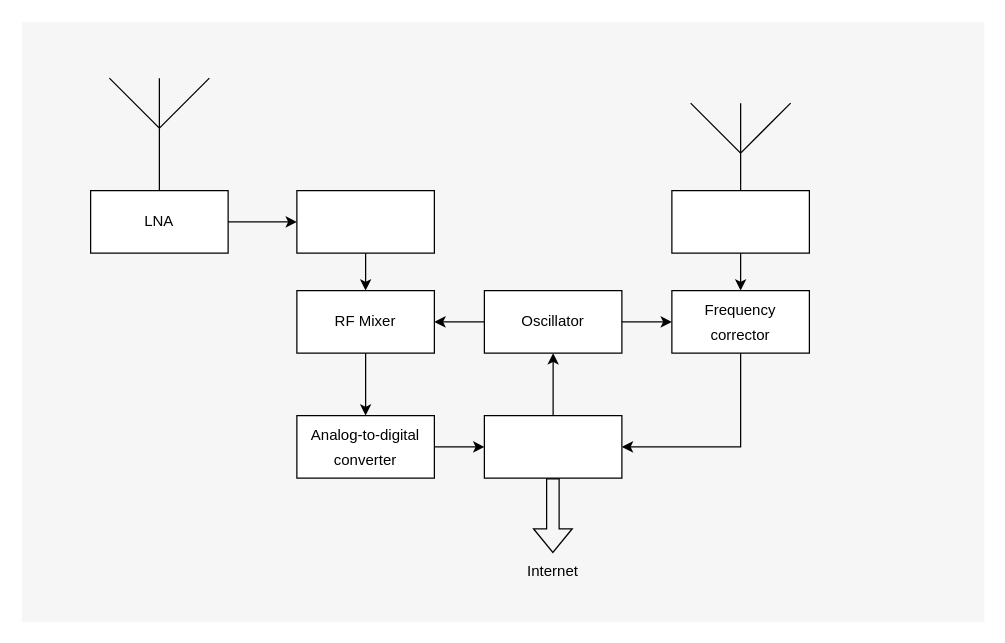
Image size: 1005x643. Some labels were removed from this diagram. The centre of each missing label's shape, as x and y in pixels:
GNSS receiver: the point at 740,221
RF filter Amplifier: the point at 365,221
Station computer: the point at 552,446
